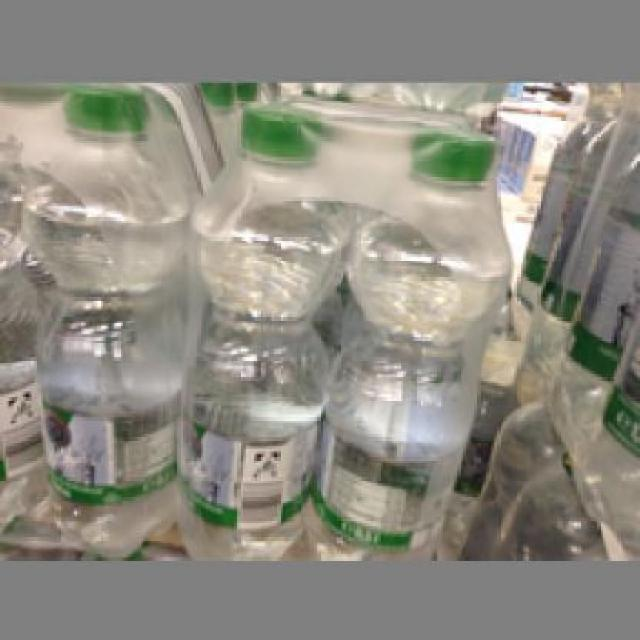Water: (303, 128, 512, 558), (174, 100, 343, 557), (17, 86, 177, 552)
